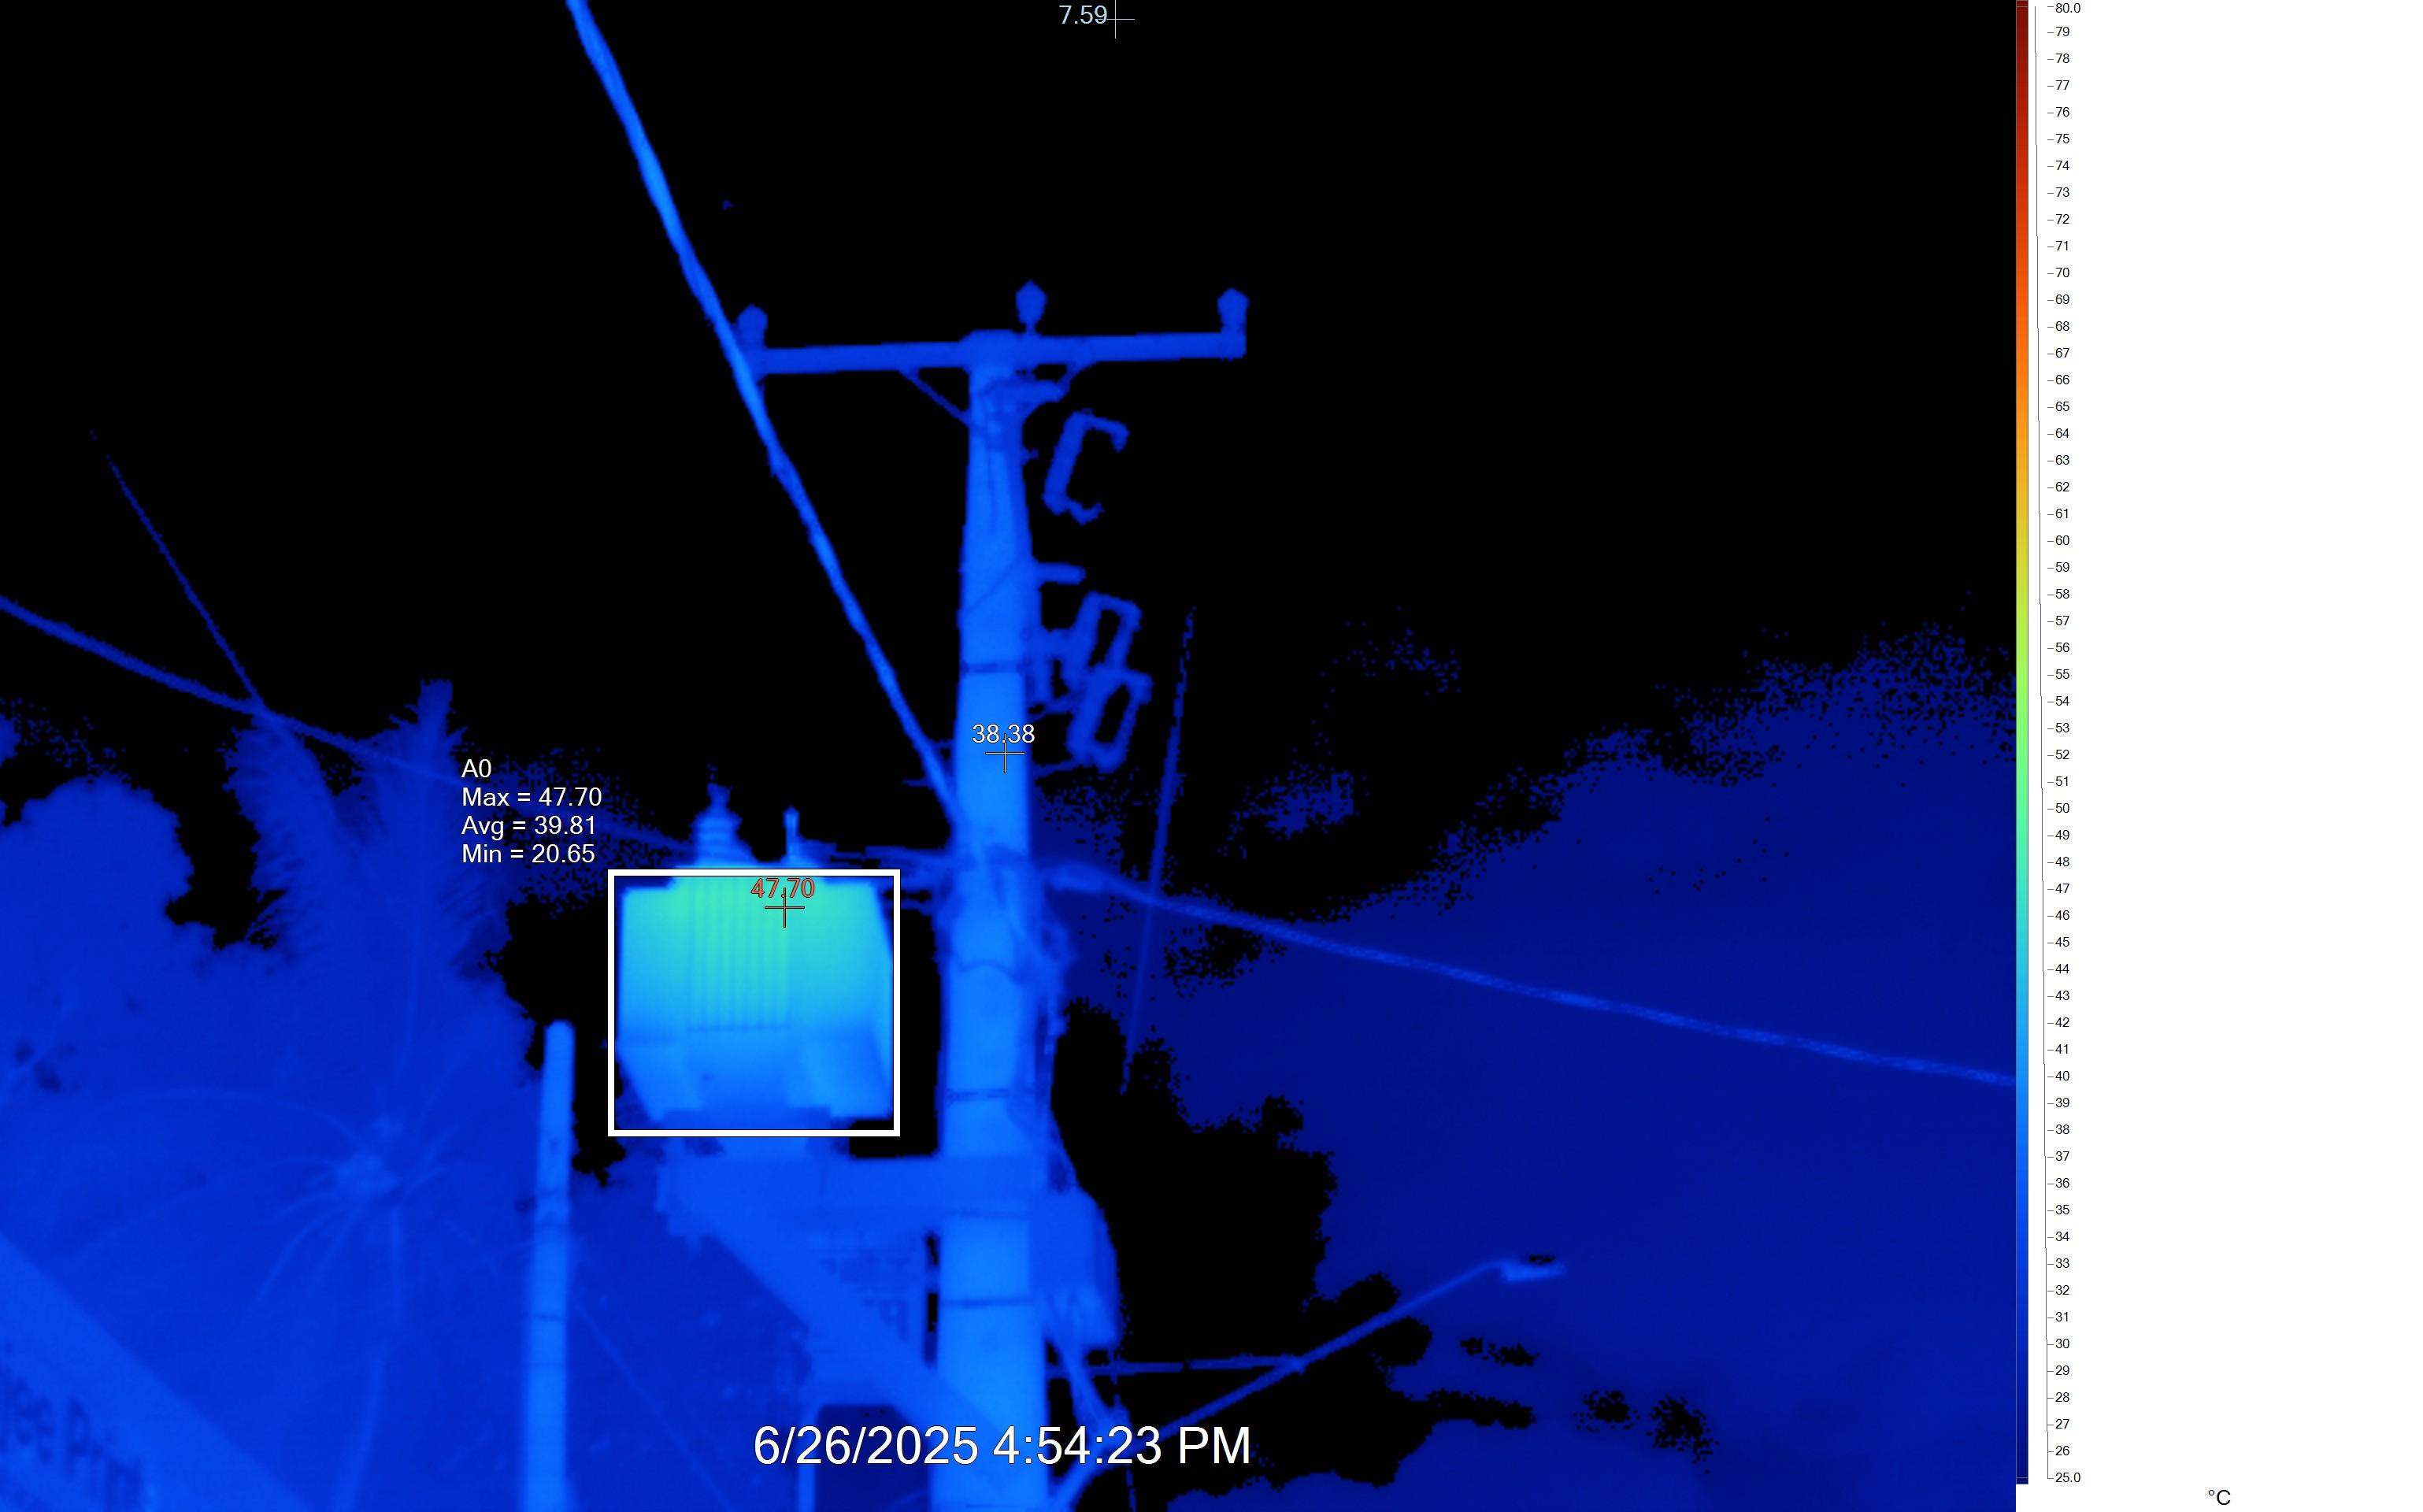normal: (601, 867, 911, 1144)
